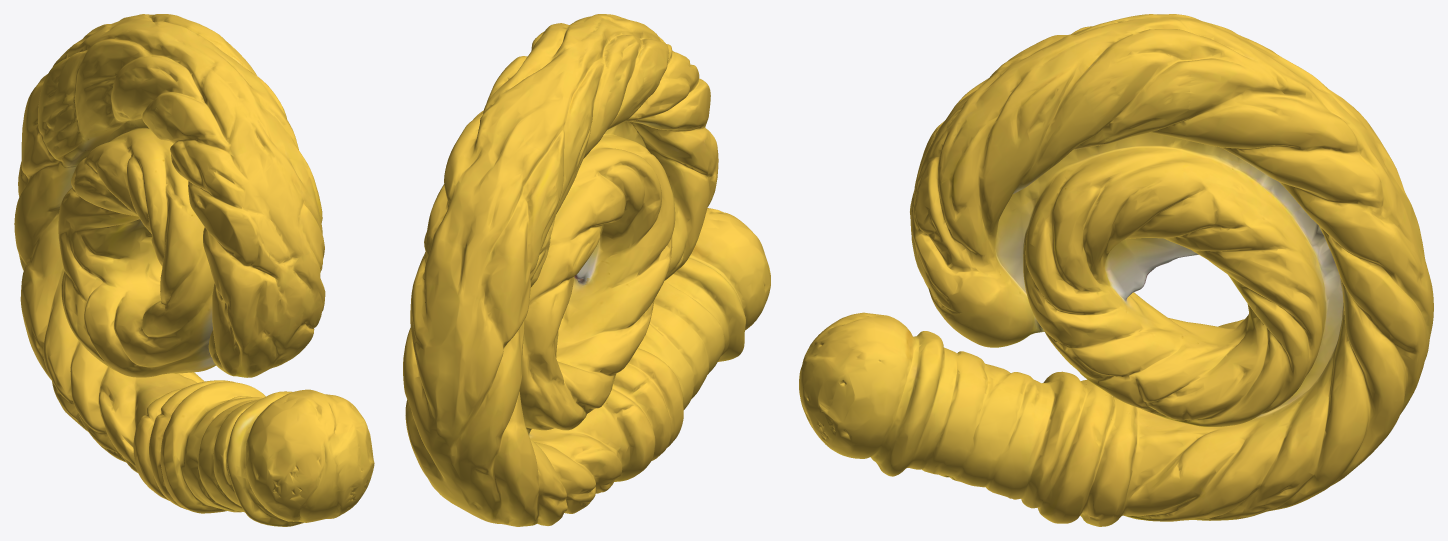
File: jelly_original_lemon.glb
The picture shows the model from 3 angles, left to right: view 1: azimuth 30°, elevation 25°; view 2: azimuth 150°, elevation 25°; view 3: azimuth 270°, elevation 25°; orthographic projection. The views are drawn at different scales.
Parts seen in each view (by area): view 1: tripo_node_d0ffba82-6e5f-46b3-a527-6a680692d3a5; view 2: tripo_node_d0ffba82-6e5f-46b3-a527-6a680692d3a5; view 3: tripo_node_d0ffba82-6e5f-46b3-a527-6a680692d3a5.
Boxes of the visible parts, box(x1,y1,x2,y2) form: tripo_node_d0ffba82-6e5f-46b3-a527-6a680692d3a5: box(14, 14, 374, 526); tripo_node_d0ffba82-6e5f-46b3-a527-6a680692d3a5: box(403, 14, 770, 526); tripo_node_d0ffba82-6e5f-46b3-a527-6a680692d3a5: box(799, 14, 1433, 526).
Size of the model in its own units: 0.2364 by 0.8401 by 0.9782.
1 material, 1 textured.
